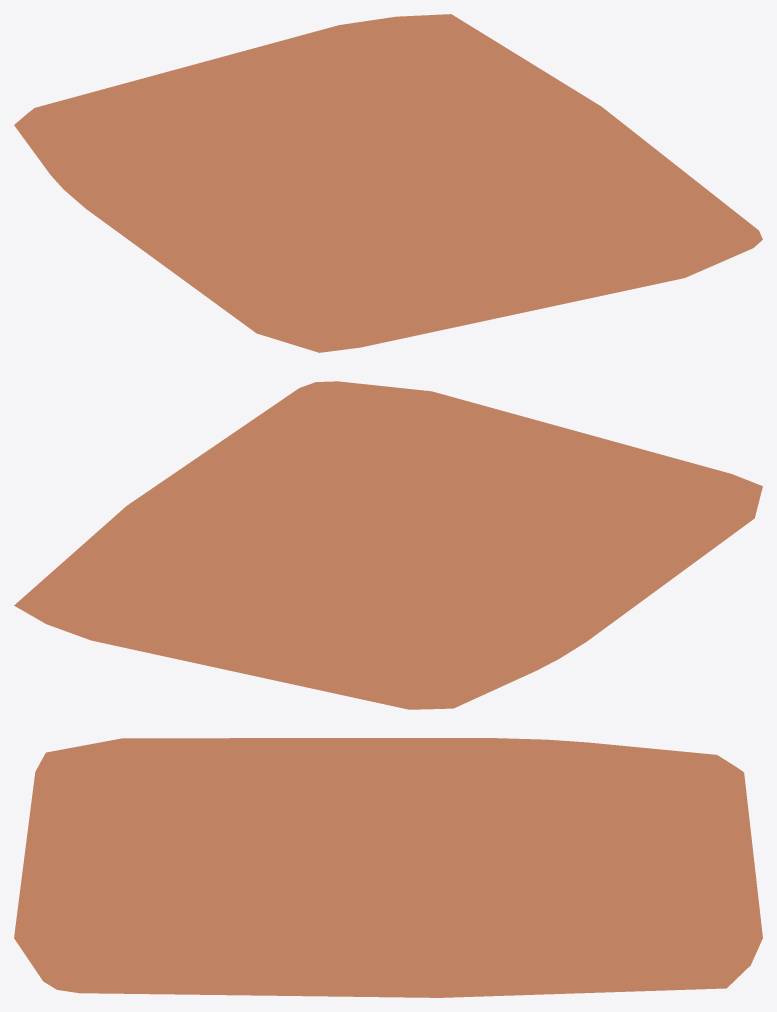
Rendered from level_fog_planes.fbx.
The picture shows the model from 3 angles, top to bottom: view 1: azimuth 30°, elevation 25°; view 2: azimuth 150°, elevation 25°; view 3: azimuth 270°, elevation 25°; orthographic projection. The views are drawn at different scales.
Visible parts, largest first — view 1: level_fog_planes; view 2: level_fog_planes; view 3: level_fog_planes.
Part boxes in pixels (left/top/right/bottom): level_fog_planes: left=14, top=14, right=762, bottom=352; level_fog_planes: left=14, top=381, right=762, bottom=709; level_fog_planes: left=14, top=738, right=762, bottom=997.
Size of the model in its own units: 1081213 by 0.2145 by 1316737.
